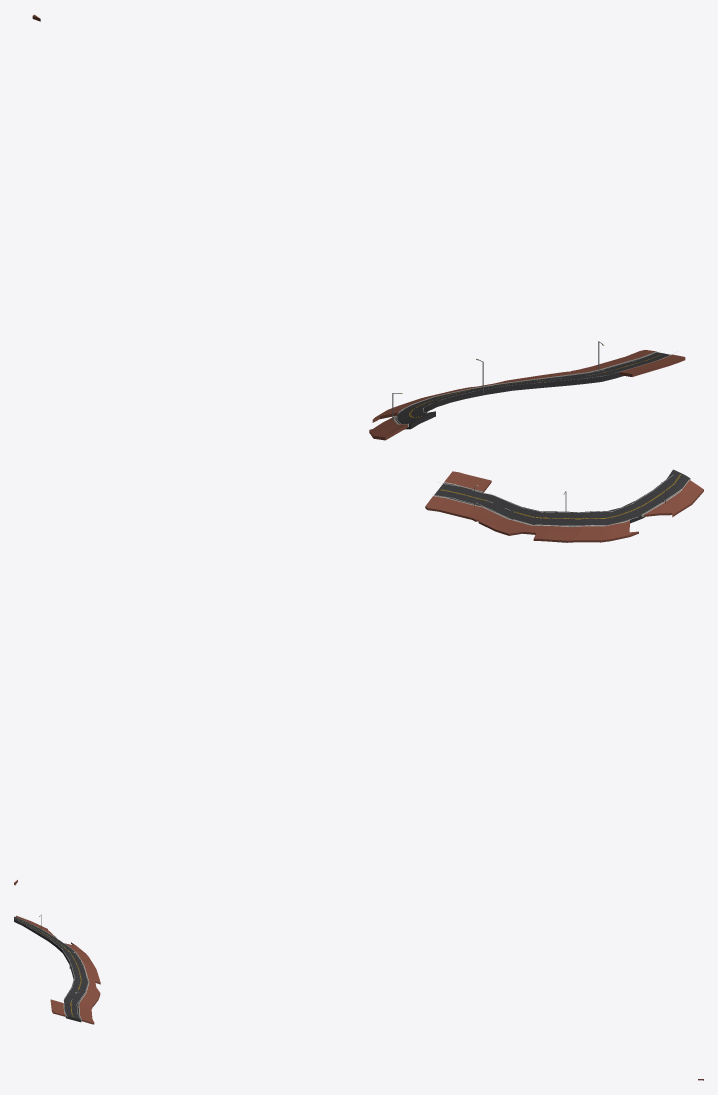
3 views of the same model, one above another, from view 1: azimuth 30°, elevation 25°; view 2: azimuth 150°, elevation 25°; view 3: azimuth 270°, elevation 25° (orthographic). The views are drawn at different scales.
Size of the model in its own units: 83.92 by 42.96 by 292.
